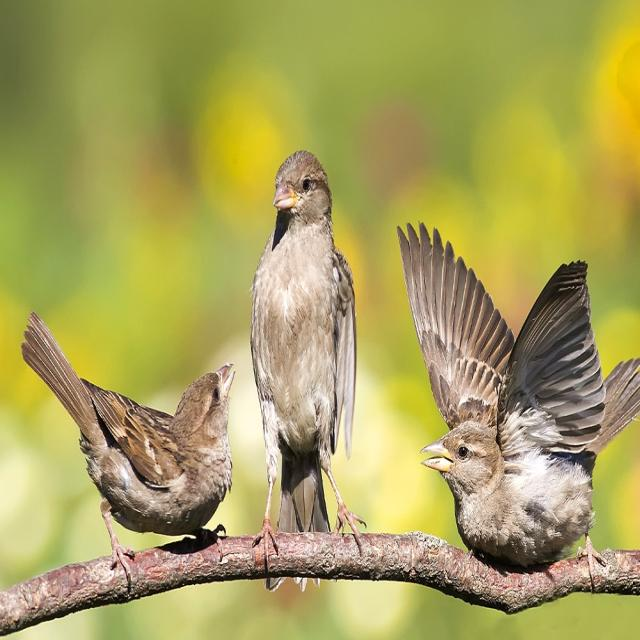bird: (393, 218, 627, 563), (242, 133, 367, 531)
